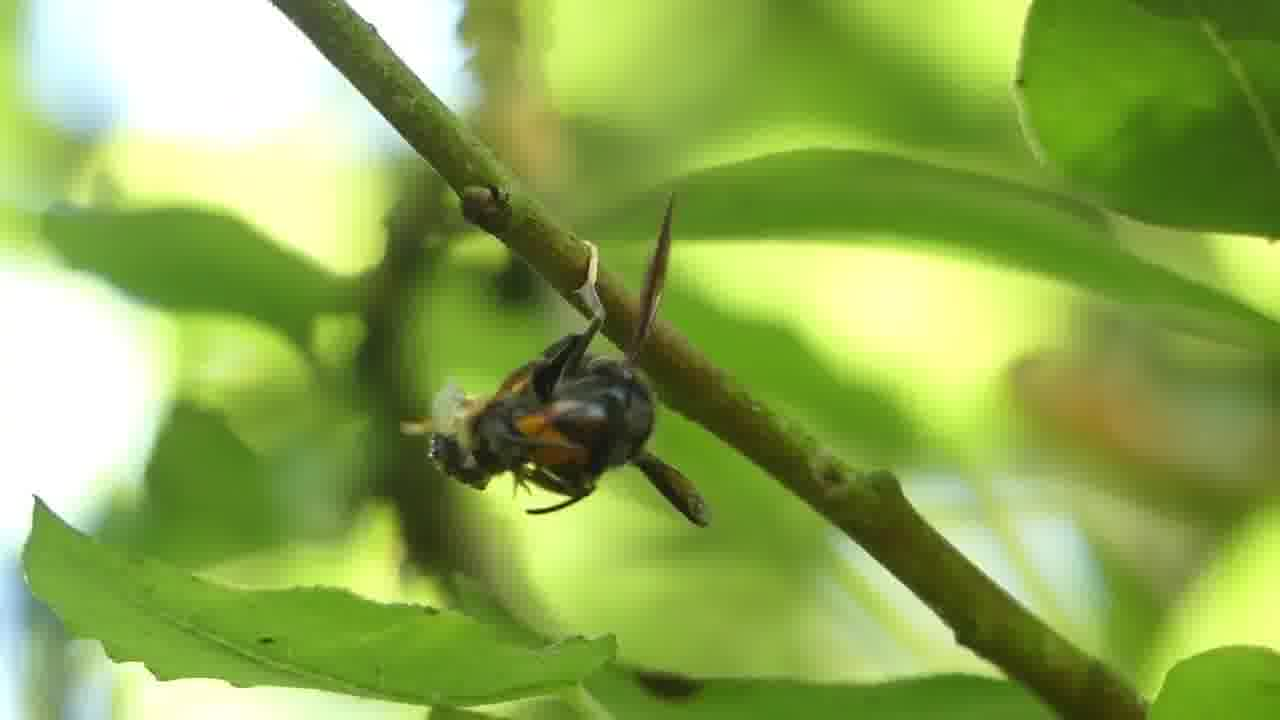hornet: (418, 287, 728, 533)
